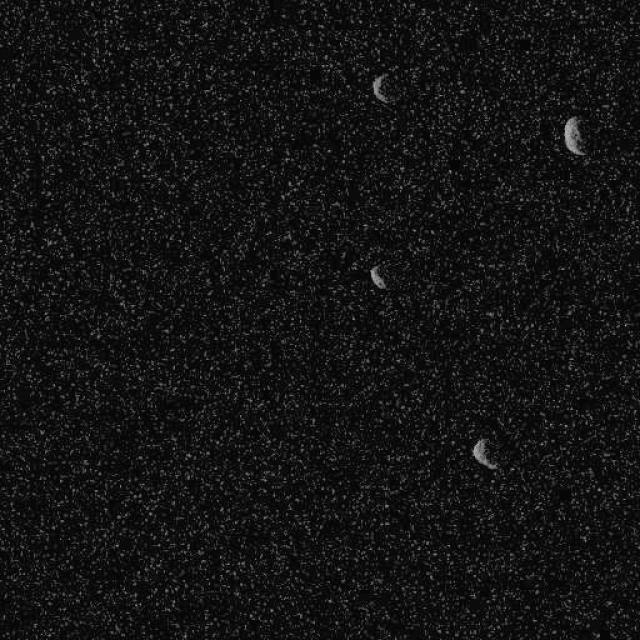D2: (470, 436, 499, 472), (562, 114, 586, 156), (370, 73, 398, 105), (369, 264, 386, 290)
